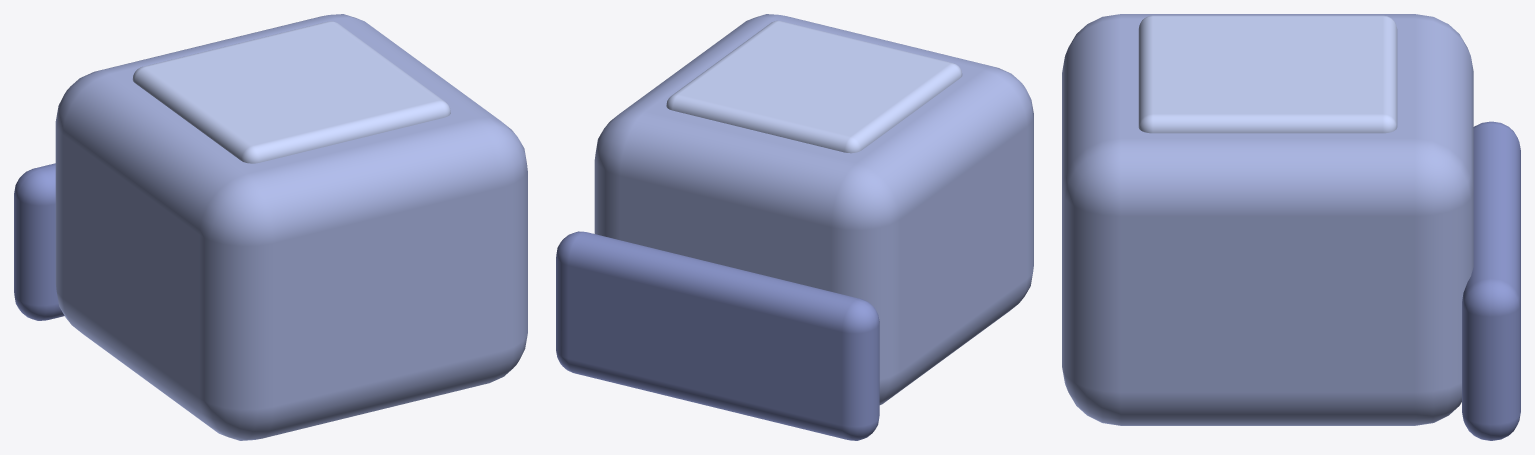
The model's file is belt_starter_machine.glb.
3 views of the same model, side by side, from view 1: azimuth 30°, elevation 25°; view 2: azimuth 150°, elevation 25°; view 3: azimuth 270°, elevation 25° (orthographic). The views are drawn at different scales.
Visible parts, largest first — view 1: StarterBlock, StarterPanel, StarterRim; view 2: StarterBlock, StarterRim, StarterPanel; view 3: StarterBlock, StarterPanel, StarterRim.
Part boxes in pixels (x1,y1,x2,y2): StarterBlock: [55, 14, 527, 440]; StarterPanel: [132, 21, 450, 163]; StarterRim: [14, 163, 64, 320]; StarterBlock: [594, 14, 1033, 404]; StarterRim: [556, 231, 879, 440]; StarterPanel: [666, 20, 962, 153]; StarterBlock: [1062, 14, 1473, 425]; StarterPanel: [1138, 15, 1397, 133]; StarterRim: [1462, 121, 1520, 440].
Bounding box in the file's own units: 0.72 × 0.555 × 0.78.
